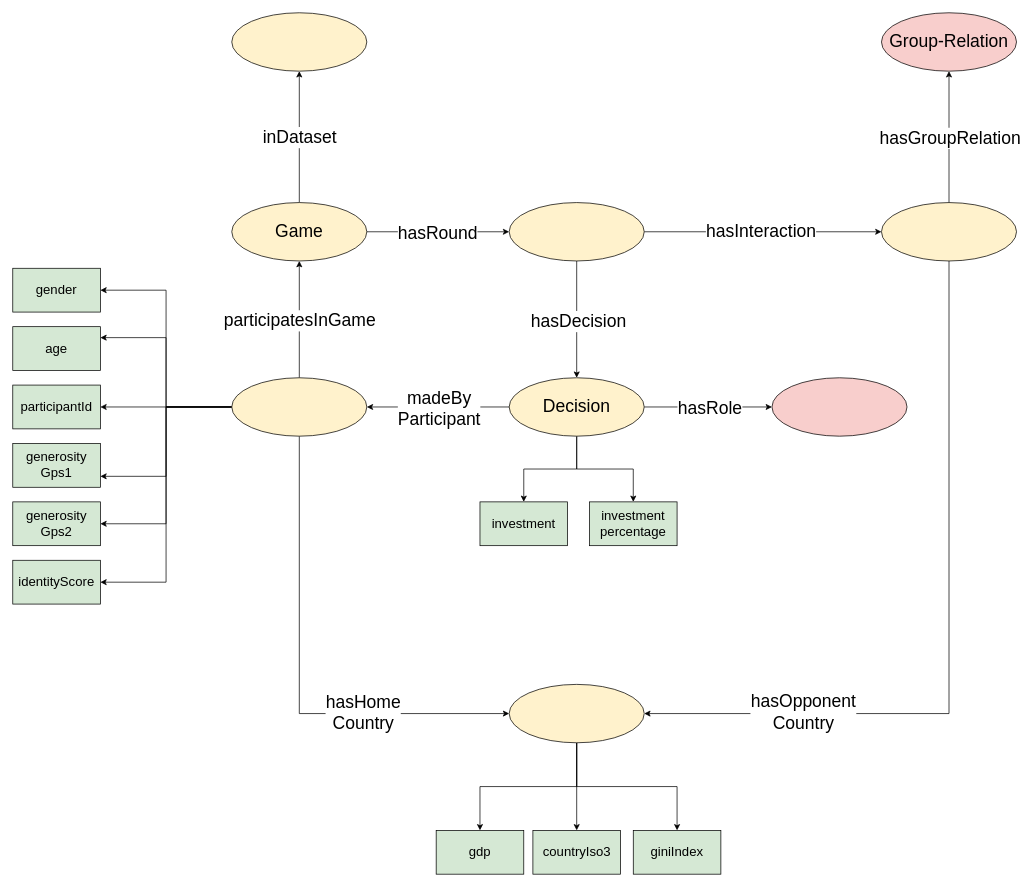
Image size: 1033x887. Some labels were removed from this diagram. The shapes that lost their labels are listed below. From the top down, each one's box as (x1, y1, x2, y2) in pixels, then its label:
(231, 12, 367, 71): Dataset
(508, 202, 644, 261): Round
(881, 202, 1017, 261): Interaction
(231, 377, 367, 436): Participant
(771, 377, 907, 436): Role
(508, 684, 644, 743): Country
